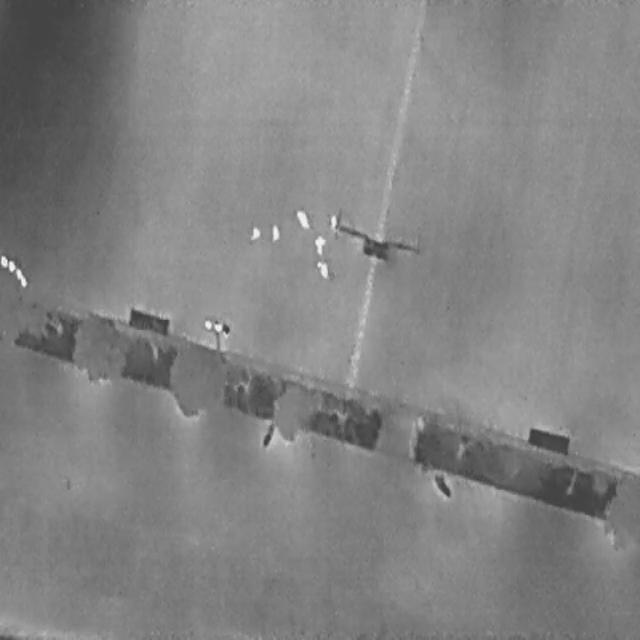Person: (295, 206, 309, 230), (314, 234, 324, 254), (271, 222, 279, 242), (320, 259, 328, 279), (249, 226, 260, 240), (328, 212, 336, 230)
